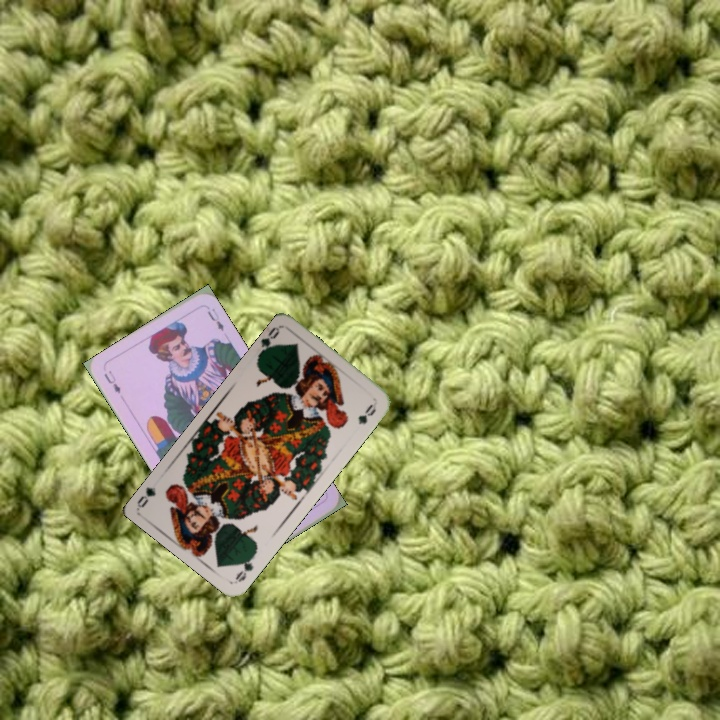EU: (100, 366, 123, 396)
GO: (254, 323, 282, 360), (231, 548, 259, 585)
